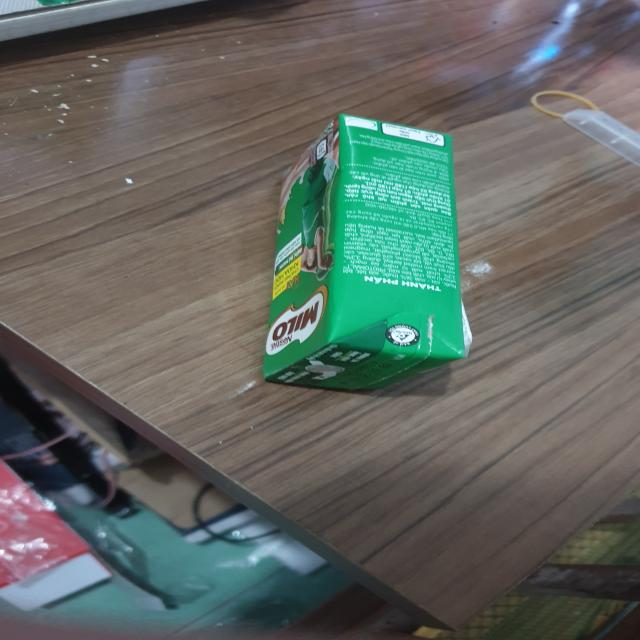Milo: (255, 111, 478, 397)
